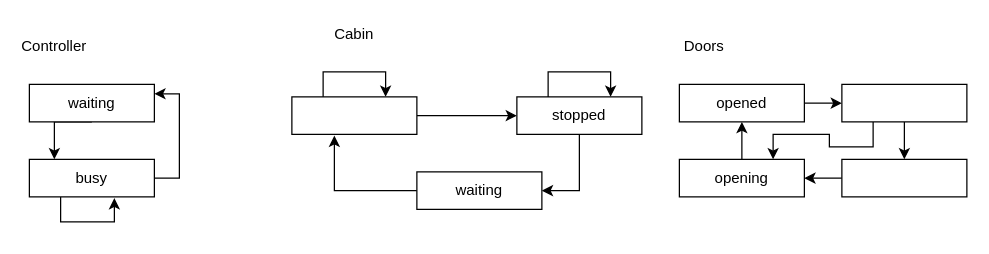
Image size: 989x254. Some labels were removed from this diagram. Each missing label, with the centre of its shape:
closed: point 904,177
closing: point 904,102
moves: point 354,115
